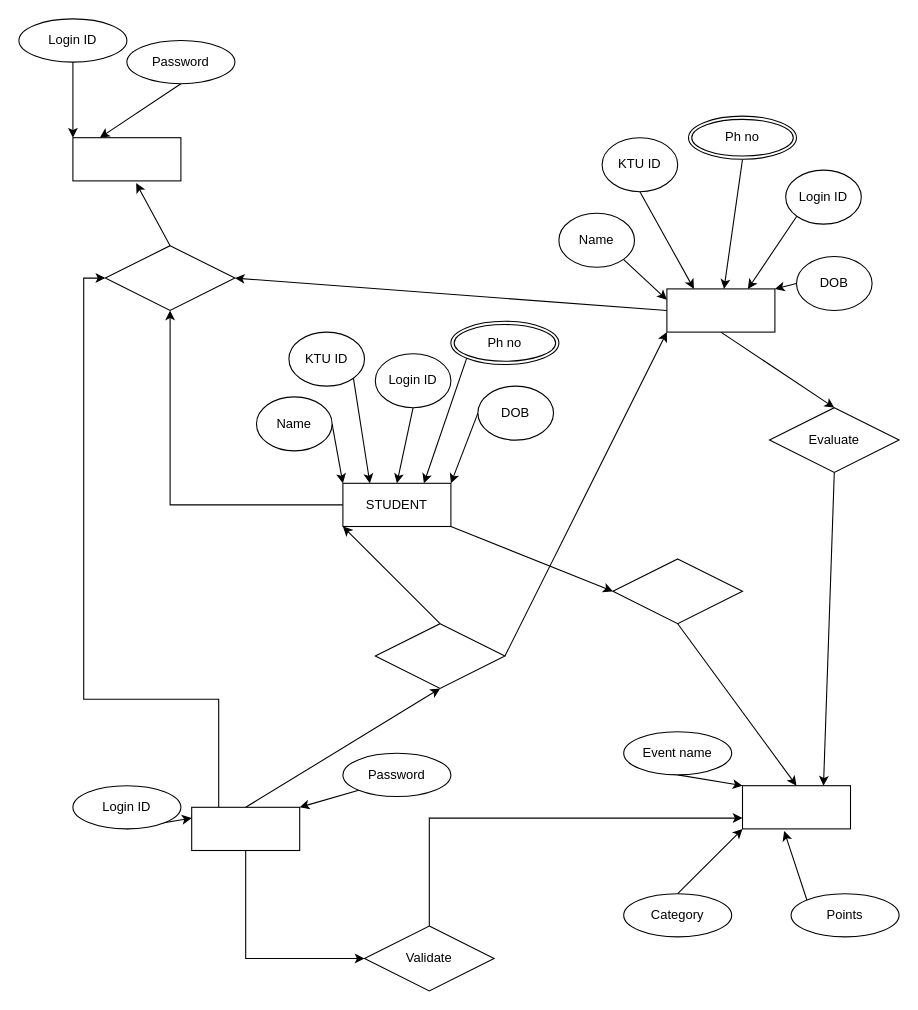
This 918x1010 diagram has some shape labels left out. Here are the shapes that lost their labels. From the top down, the centre of each, then its label:
At pixel 126 159: "Login".
At pixel 169 277: "HAS".
At pixel 720 310: "Tutor".
At pixel 677 591: "Upload".
At pixel 439 655: "Manages".
At pixel 795 807: "Certificate".
At pixel 245 828: "ADMIN".
